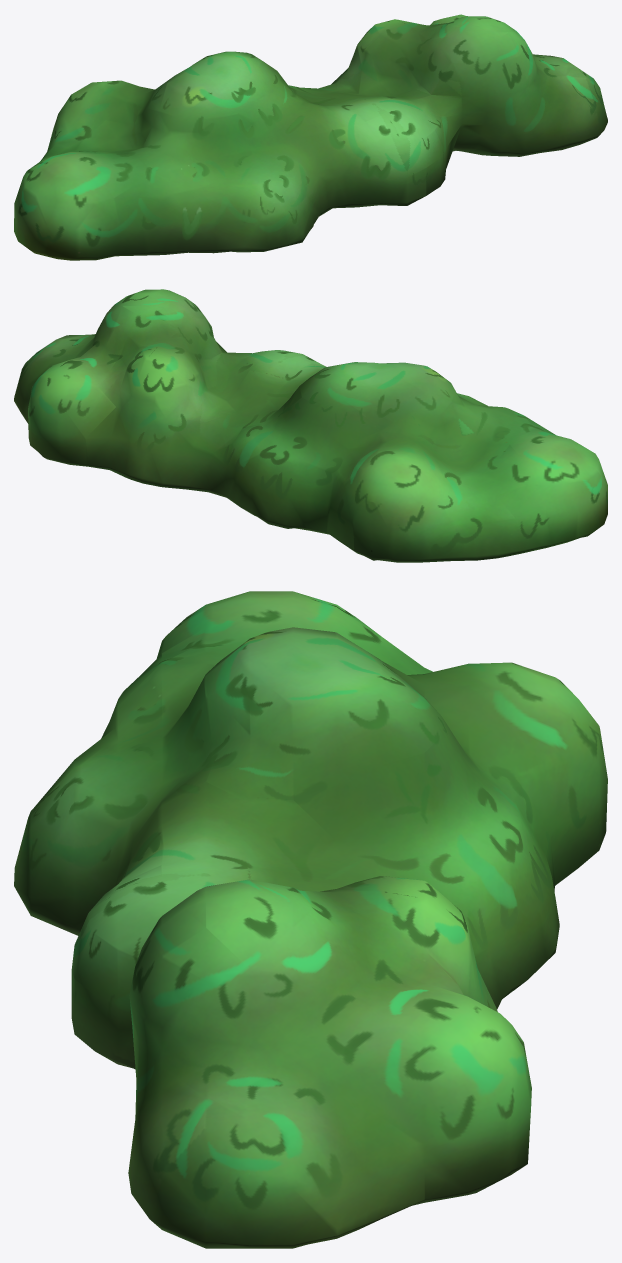
The model's file is bashs.fbx.
3 views of the same model, one above another, from view 1: azimuth 30°, elevation 25°; view 2: azimuth 150°, elevation 25°; view 3: azimuth 270°, elevation 25° (orthographic). The views are drawn at different scales.
Parts seen in each view (by area): view 1: bash.001; view 2: bash.001; view 3: bash.001.
Boxes of the visible parts, <box> form: bash.001: <box>14,14,607,260</box>; bash.001: <box>14,289,607,562</box>; bash.001: <box>14,591,607,1248</box>.
Bounding box in the file's own units: 11.89 × 2.48 × 5.43.
